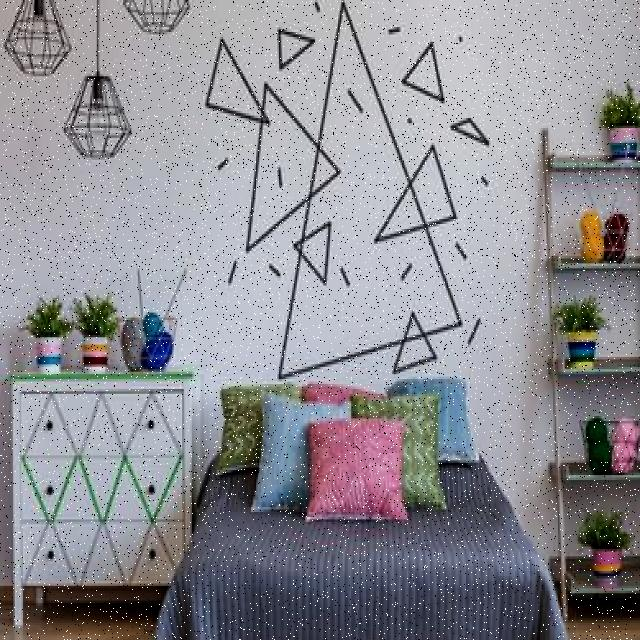bed: (165, 377, 561, 640)
